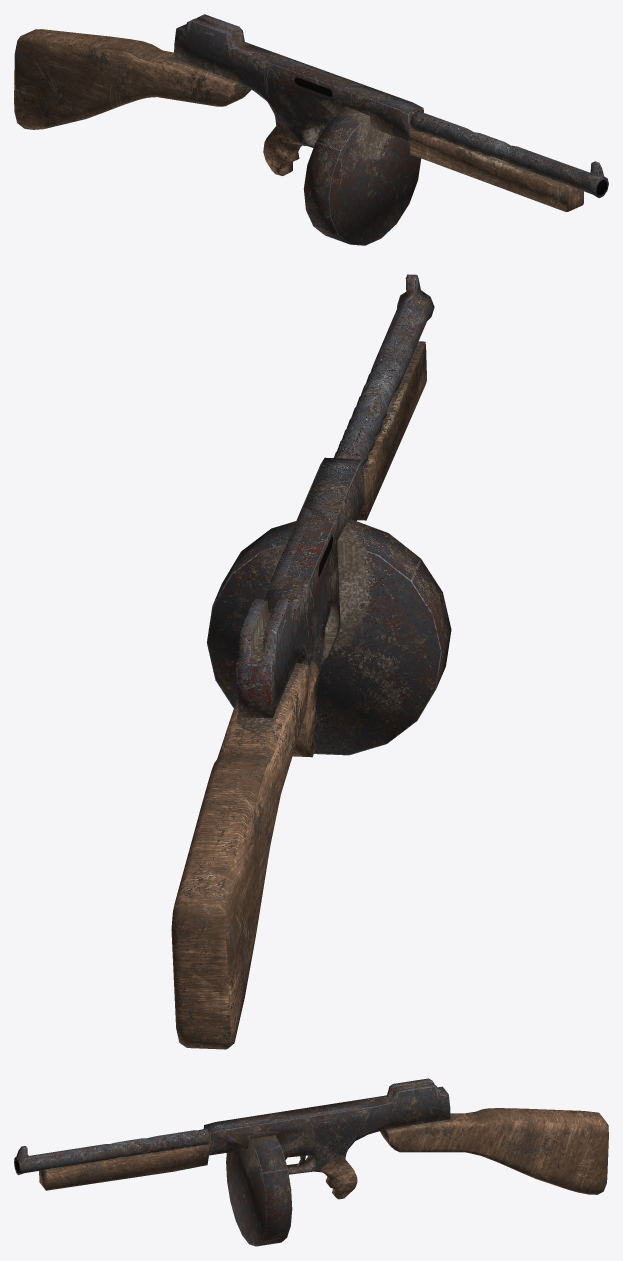
Rendered from Anim_disparar_ametralladora_objetos.0027.obj.
3 views of the same model, one above another, from view 1: azimuth 30°, elevation 25°; view 2: azimuth 150°, elevation 25°; view 3: azimuth 270°, elevation 25° (orthographic). The views are drawn at different scales.
Visible parts, largest first — view 1: Ametralladora1; view 2: Ametralladora1; view 3: Ametralladora1.
Boxes of the visible parts, x1,y1,x2,y2 form: Ametralladora1: (14, 14, 608, 245); Ametralladora1: (171, 274, 451, 1049); Ametralladora1: (14, 1078, 608, 1246).
Bounding box in the file's own units: 2.28 × 1.44 × 5.71.
